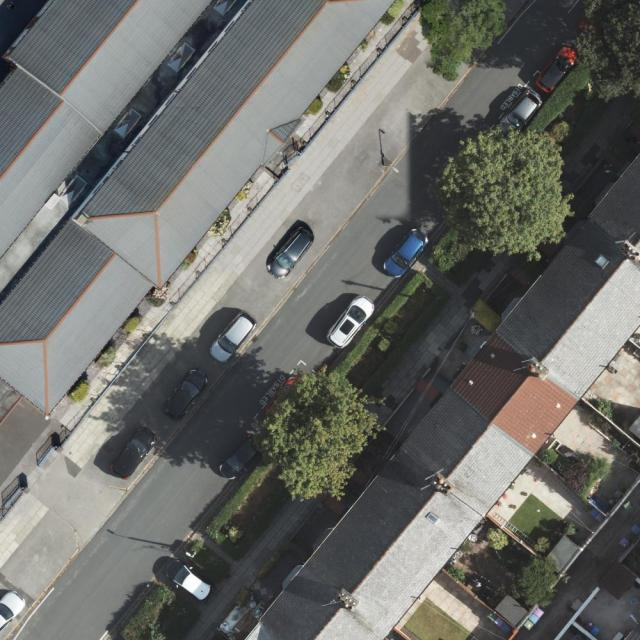roof: (0, 0, 401, 507), (241, 141, 640, 640)
skylight: (161, 40, 197, 76), (108, 105, 143, 140), (56, 175, 89, 208), (206, 0, 237, 17), (593, 250, 615, 270), (421, 508, 442, 525)
